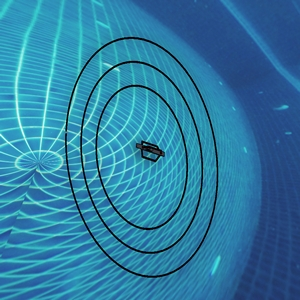circle: (54, 24, 258, 280)
